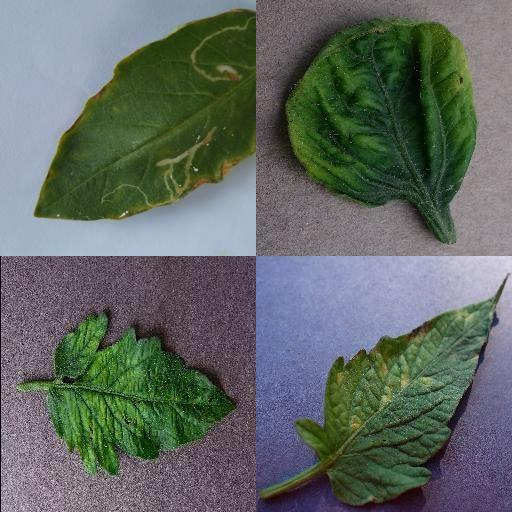Leaf Miner: (33, 7, 256, 219)
Leaf Mold: (297, 296, 495, 510)
Mosaic Virus: (49, 310, 239, 478)
Yellow Leaf Curl Virus: (285, 16, 477, 208)
